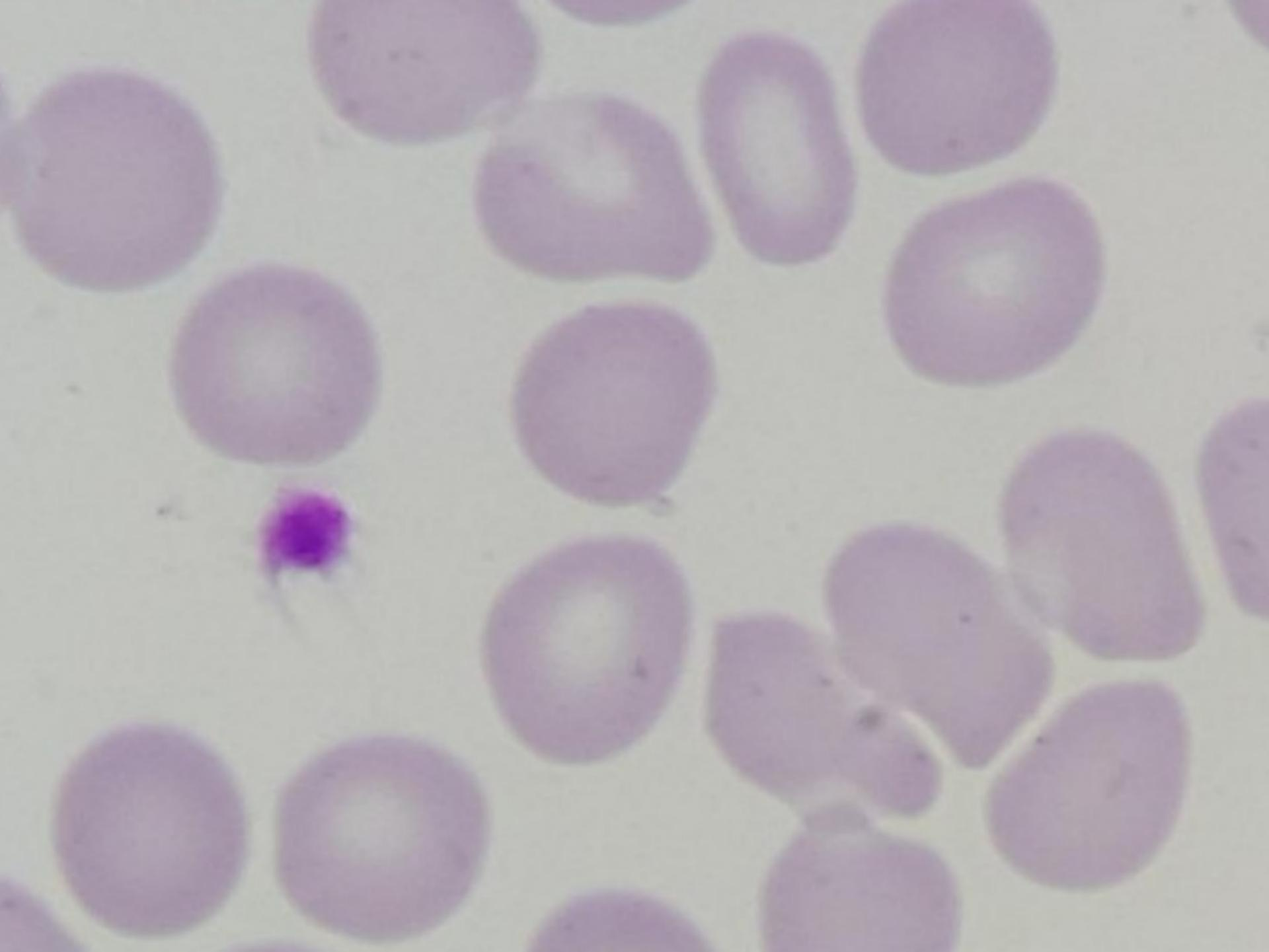Uninfected: (825, 522, 1054, 761), (707, 616, 947, 831), (487, 537, 695, 763), (1008, 433, 1207, 665), (468, 104, 716, 290), (279, 729, 490, 945), (886, 180, 1098, 390), (170, 265, 384, 467), (25, 68, 215, 285), (986, 681, 1185, 888), (512, 301, 714, 504), (56, 724, 251, 929), (707, 31, 856, 266), (864, 0, 1057, 176), (316, 0, 537, 138), (758, 803, 962, 952)
